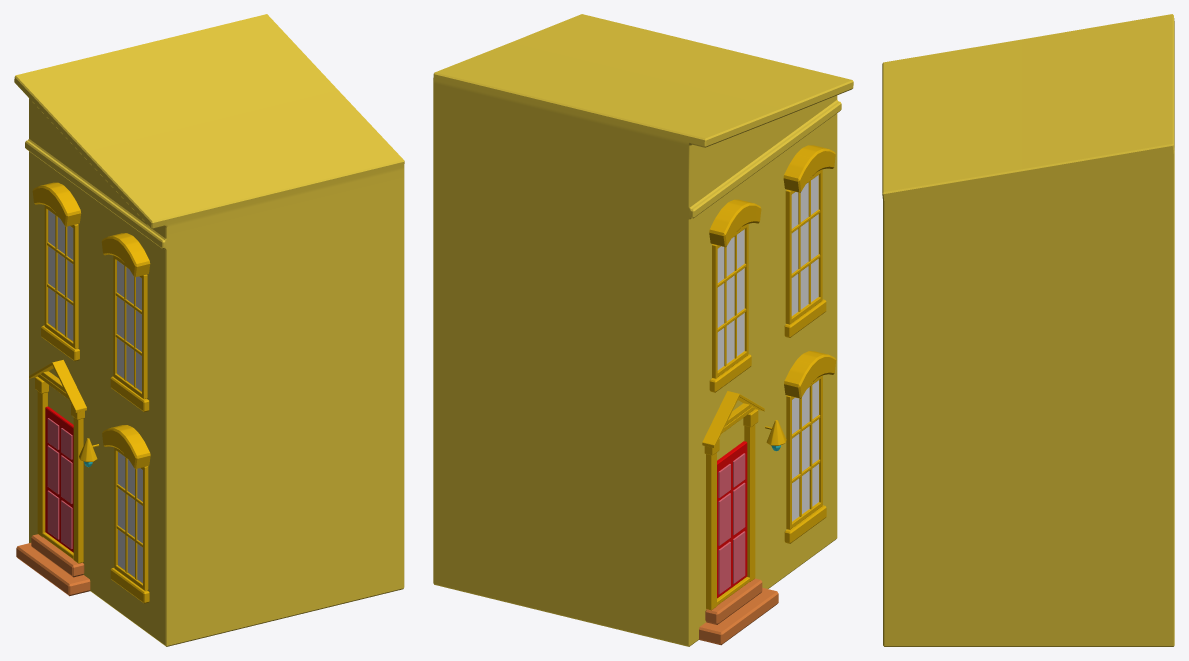
The model's file is TimHouse3.fbx.
3 views of the same model, side by side, from view 1: azimuth 30°, elevation 25°; view 2: azimuth 150°, elevation 25°; view 3: azimuth 270°, elevation 25° (orthographic). The views are drawn at different scales.
Parts seen in each view (by area): view 1: polySurface122; view 2: polySurface122; view 3: polySurface122.
Boxes of the visible parts, x1,y1,x2,y2 form: polySurface122: [14, 14, 404, 646]; polySurface122: [433, 14, 853, 646]; polySurface122: [882, 14, 1174, 646].
Bounding box in the file's own units: 5.48 × 9.57 × 5.04.
